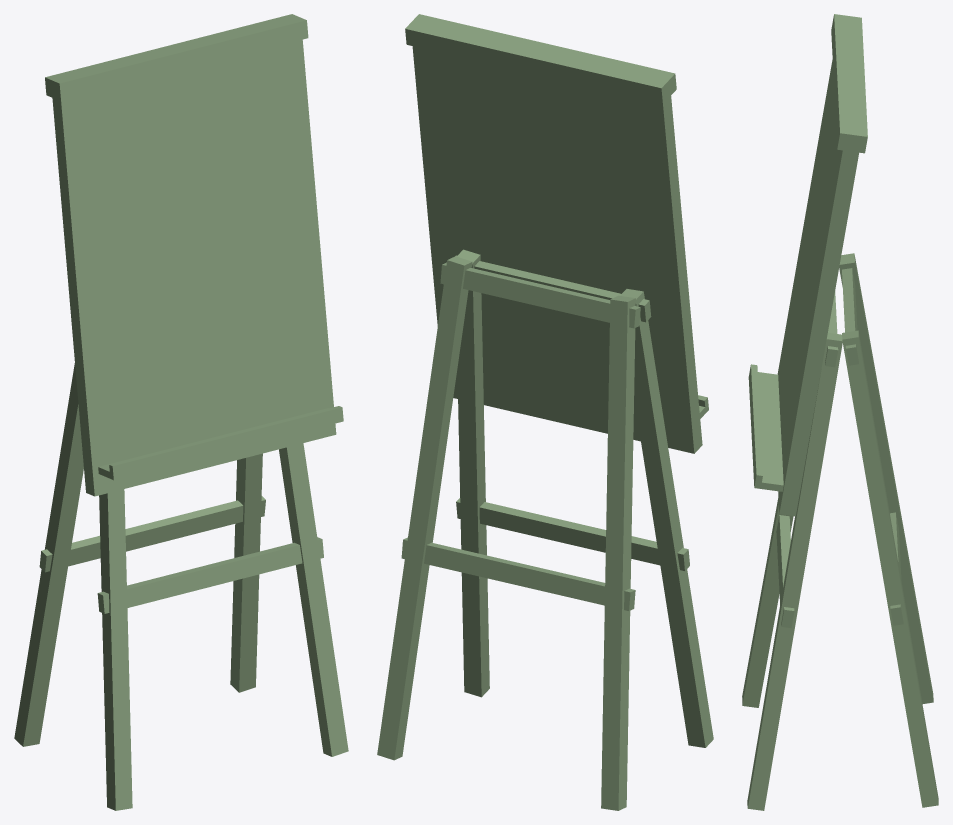
Rendered from Flip_Chart.fbx.
3 renders of one model, left to right at view 1: azimuth 30°, elevation 25°; view 2: azimuth 150°, elevation 25°; view 3: azimuth 270°, elevation 25°, orthographic. The views are drawn at different scales.
Parts seen in each view (by area): view 1: Flip_Chart; view 2: Flip_Chart; view 3: Flip_Chart.
Part boxes in pixels (x1,y1,x2,y2): Flip_Chart: [14, 14, 348, 810]; Flip_Chart: [377, 14, 713, 810]; Flip_Chart: [742, 14, 938, 810].
Size of the model in its own units: 58.81 by 156 by 40.91.
